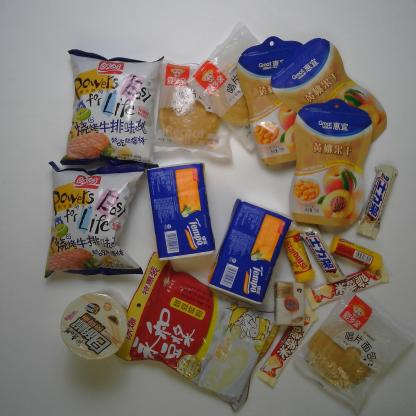Candy: (326, 231, 386, 271), (283, 228, 316, 286)
Chocolate: (251, 307, 319, 391), (309, 256, 390, 312), (356, 153, 402, 247), (295, 227, 345, 287)
Dessert: (190, 20, 302, 153), (296, 294, 414, 411), (155, 43, 237, 164)
Dried Fruit: (234, 35, 343, 180), (272, 27, 396, 151), (286, 96, 384, 238)
Instant Drink: (113, 247, 282, 411)
Instant Noodles: (45, 289, 140, 376)
Puffed Food: (51, 36, 174, 170), (43, 157, 155, 286)
Tissue: (204, 201, 299, 298), (138, 154, 216, 268), (271, 272, 309, 327)
